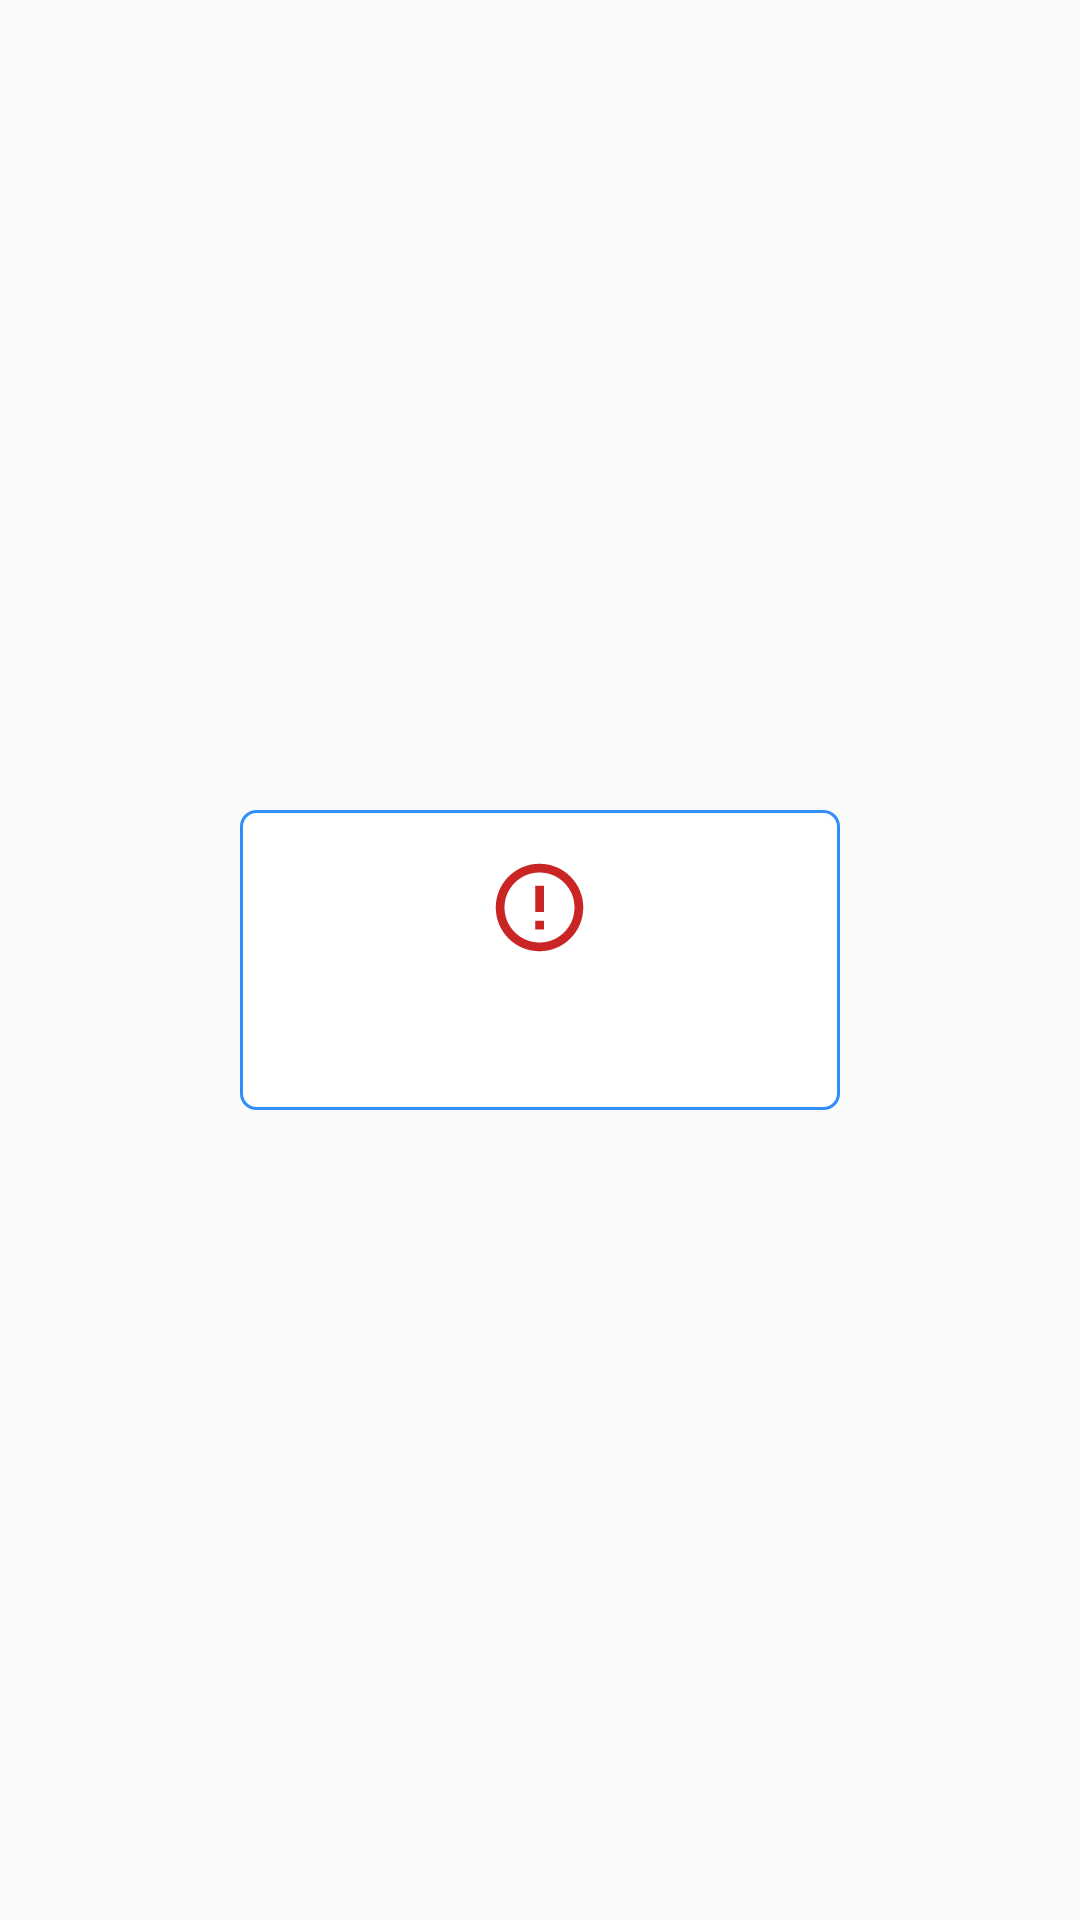

Icons on this 1080x1920 Android screen, each with the point to tap as [x,y]:
error: [539,907]
